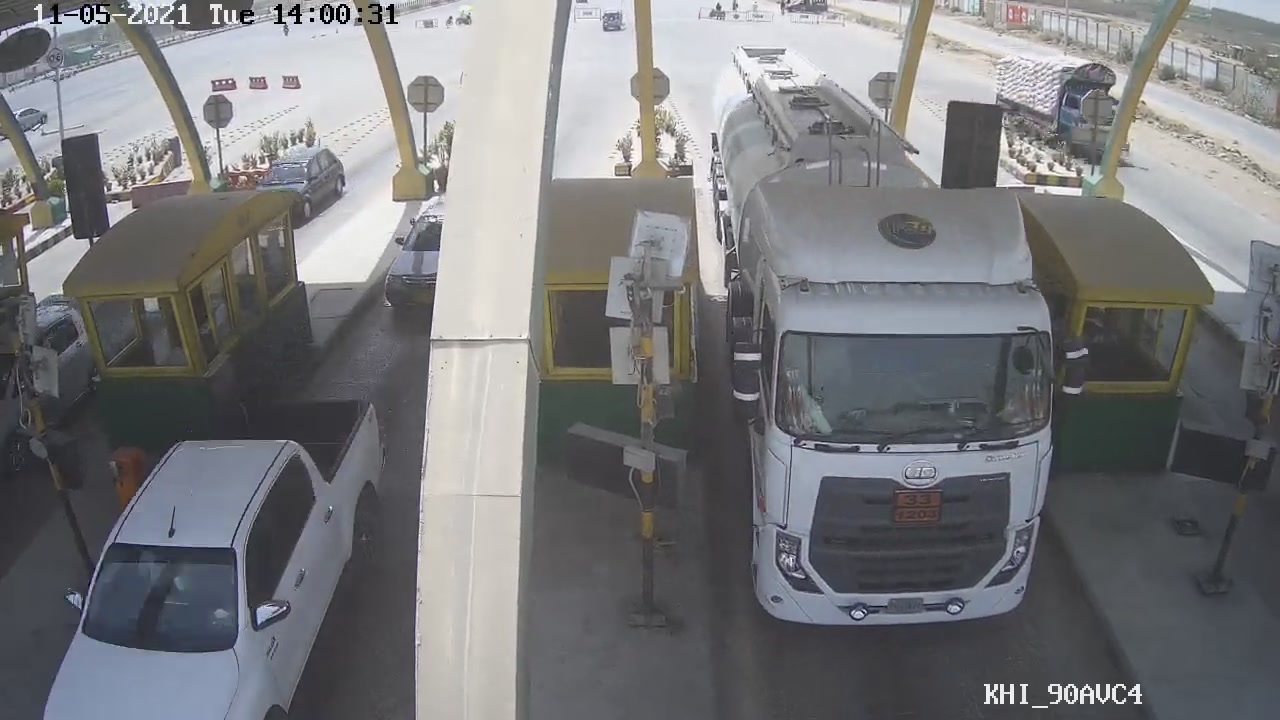F6: (712, 73, 1063, 633)
